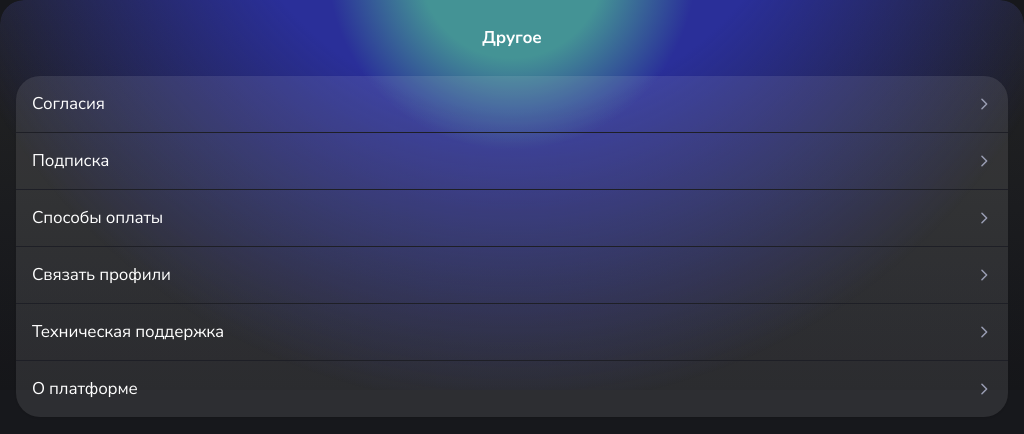
Test: master OtherPage › не запускает duplicate profile-link request пока первый pending
Click the button "Связать профили": [101, 274] box x1=16 y1=247 x2=1008 y2=304
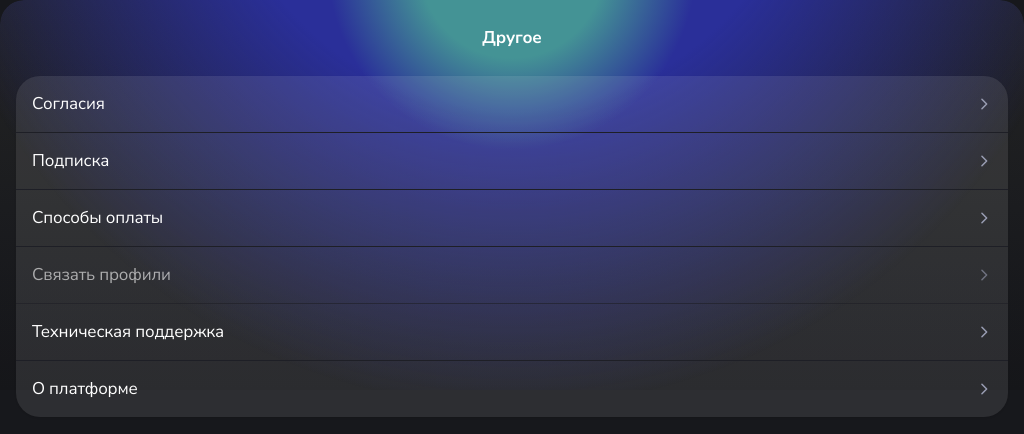
Click the button "Связать профили": [101, 274] box x1=16 y1=247 x2=1008 y2=304
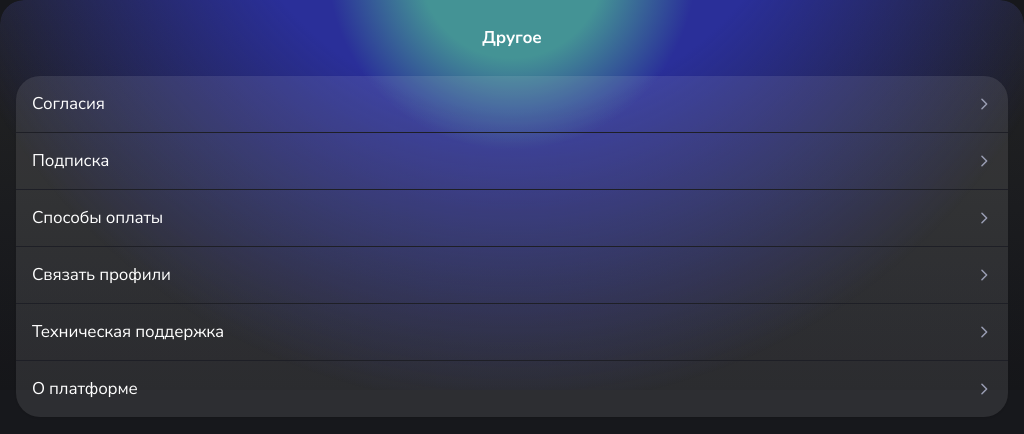
Check: the button "Связать профили" is enabled, box x1=16 y1=247 x2=1008 y2=304
